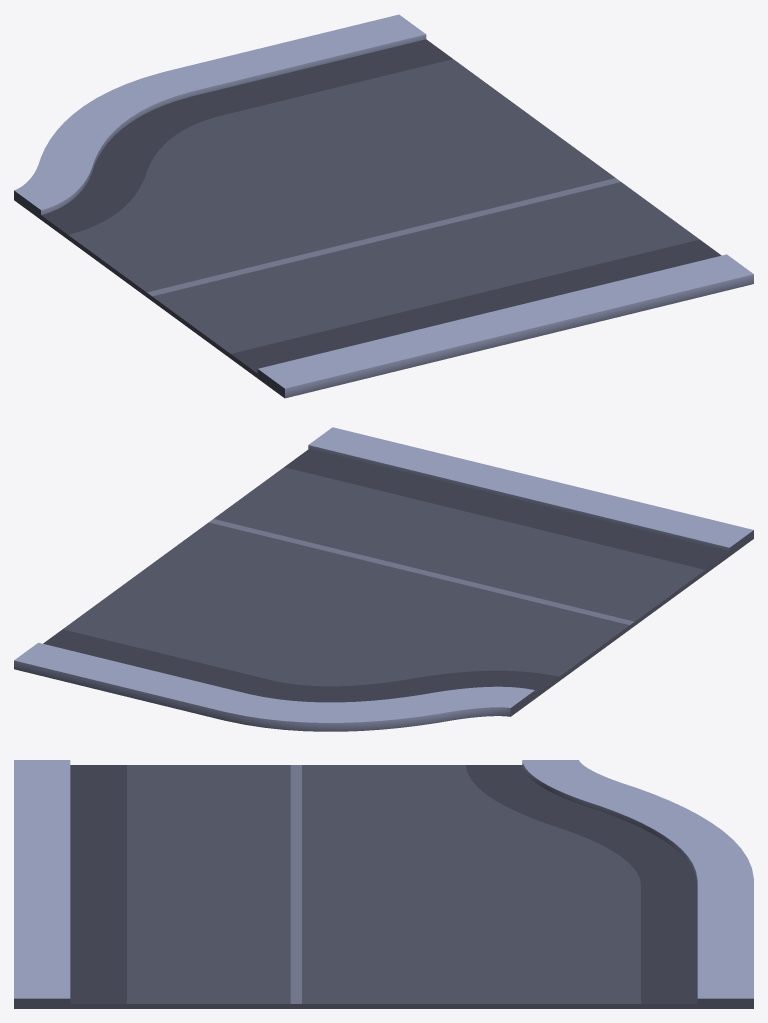
The model's file is road-side-exit.glb.
3 views of the same model, one above another, from view 1: azimuth 30°, elevation 25°; view 2: azimuth 150°, elevation 25°; view 3: azimuth 270°, elevation 25° (orthographic). The views are drawn at different scales.
Parts seen in each view (by area): view 1: road-side-exit; view 2: road-side-exit; view 3: road-side-exit.
Boxes of the visible parts, x1,y1,x2,y2 form: road-side-exit: [14, 14, 753, 398]; road-side-exit: [14, 427, 753, 731]; road-side-exit: [14, 760, 753, 1008].
Size of the model in its own units: 1 by 0.02 by 1.31.
